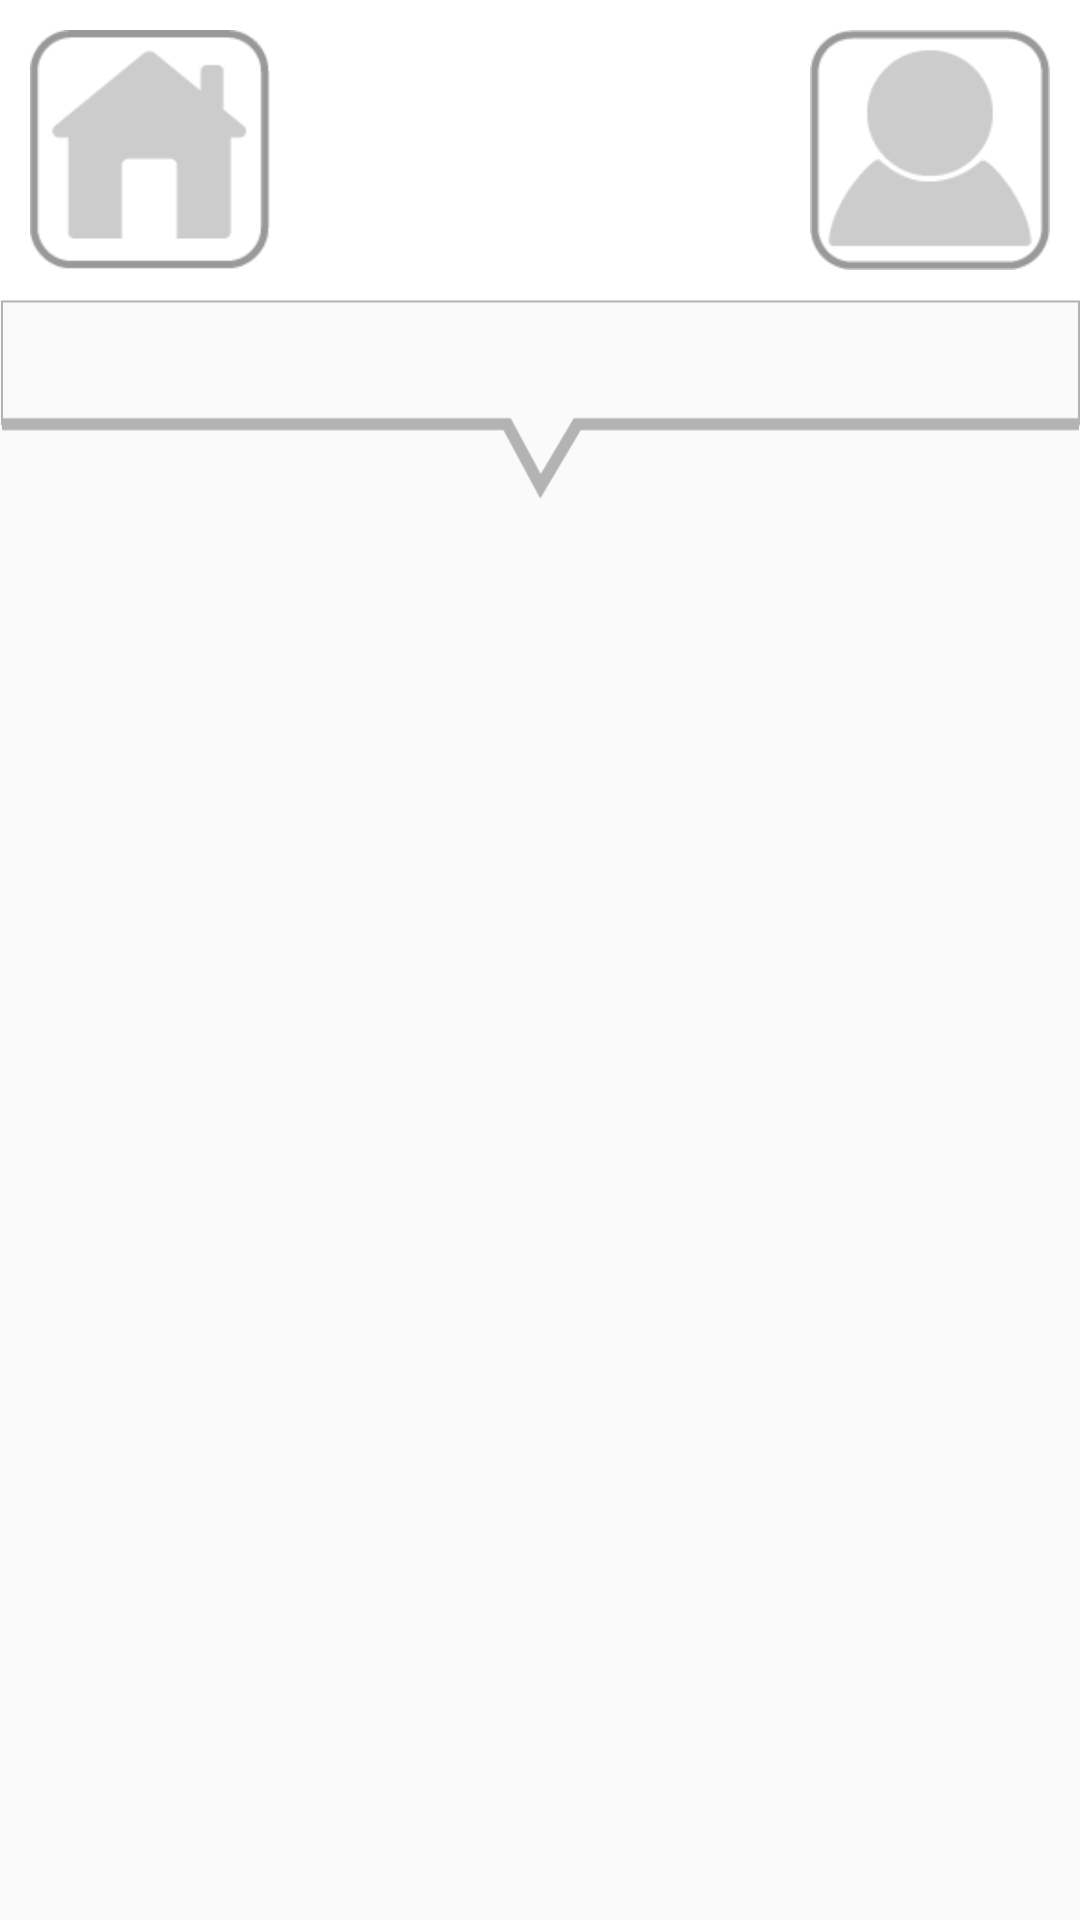

Screen size 1080x1920. Icon name, then its center in pixels as (x,y):
home: (150,149)
profile: (930,150)
